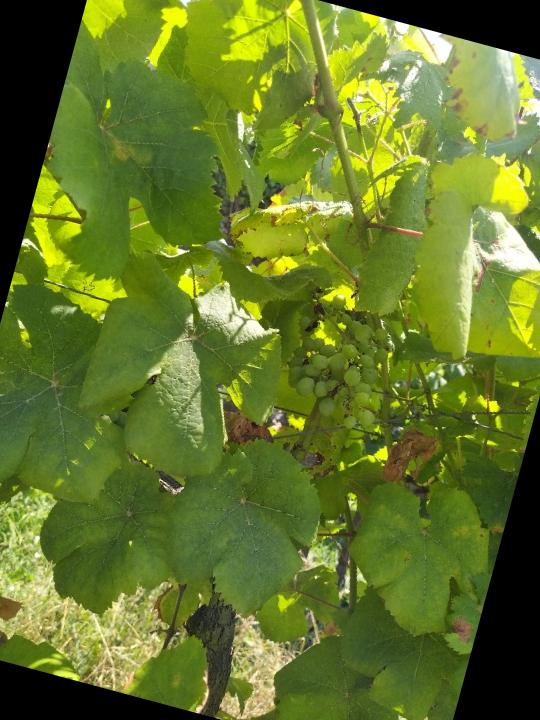grape: (274, 282, 408, 437)
